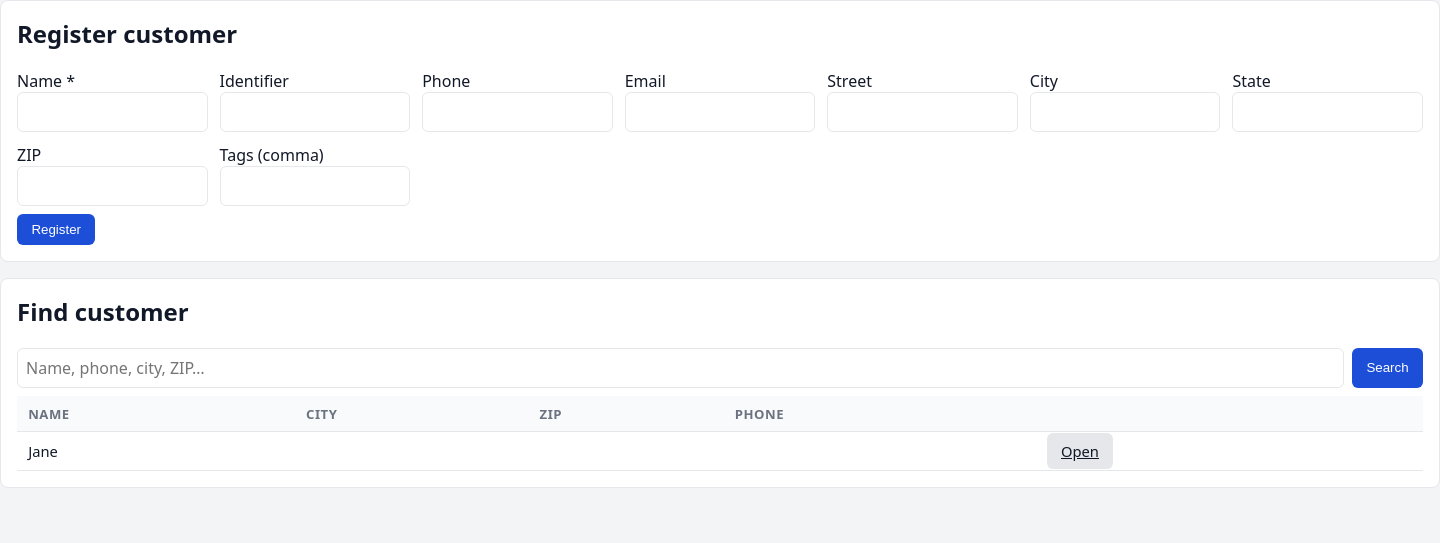
Scenario: CustomersPage › rejects a registration with no name
Click the button "Register": {"x": 56, "y": 229} [17,214,95,245]
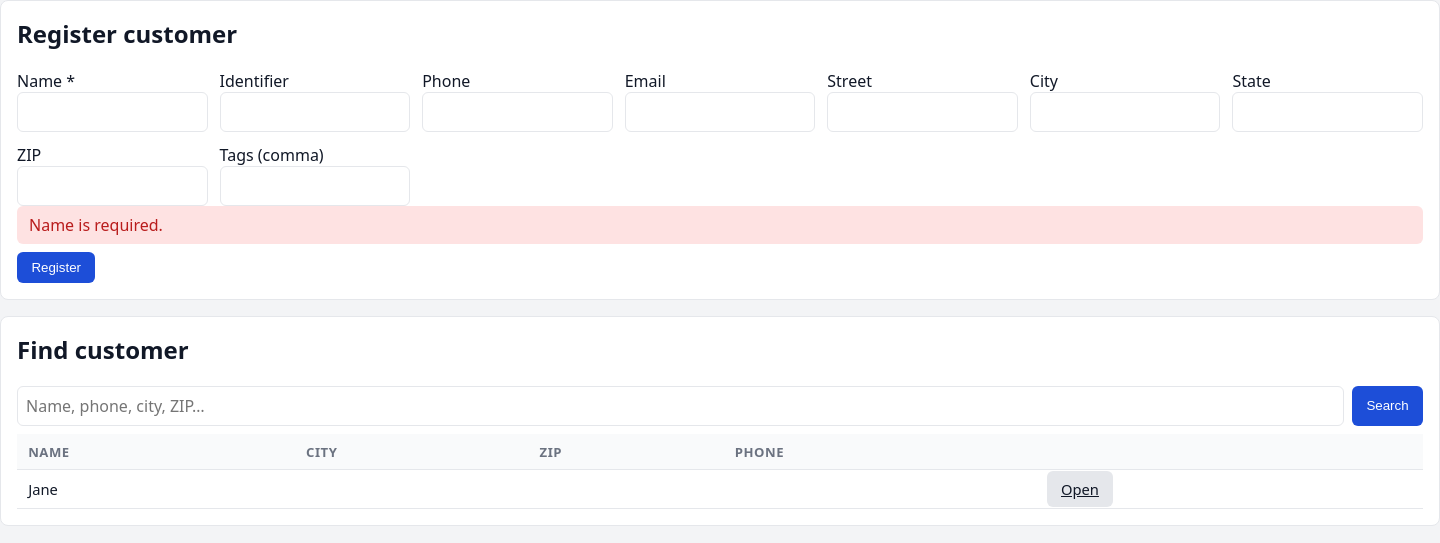
Expected: the message shows "Name is required", [29,214,163,236]
